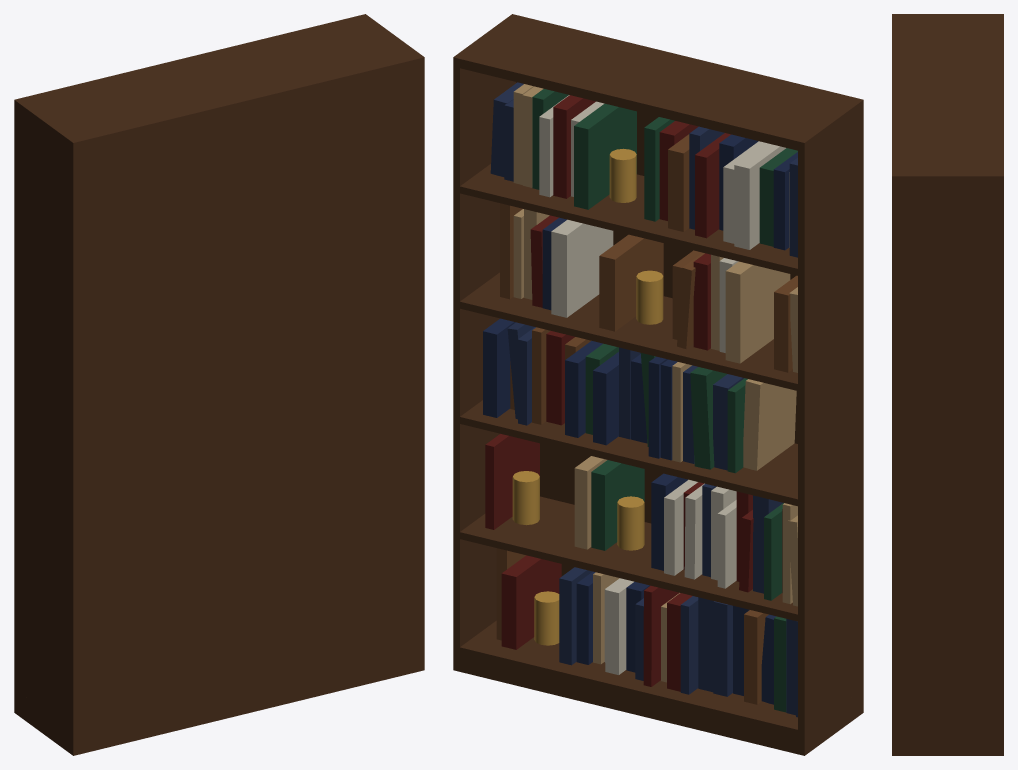
The model's file is SM_80s_Bookshelf.glb.
3 renders of one model, left to right at view 1: azimuth 30°, elevation 25°; view 2: azimuth 150°, elevation 25°; view 3: azimuth 270°, elevation 25°, orthographic. The views are drawn at different scales.
Visible parts, largest first — view 1: SM_80s_Bookshelf; view 2: SM_80s_Bookshelf; view 3: SM_80s_Bookshelf.
Part boxes in pixels (x1=…): SM_80s_Bookshelf: x1=14, y1=14, x2=424, y2=755; SM_80s_Bookshelf: x1=453, y1=14, x2=863, y2=755; SM_80s_Bookshelf: x1=892, y1=14, x2=1003, y2=755.
Bounding box in the file's own units: 1.58 × 2.64 × 0.462.
